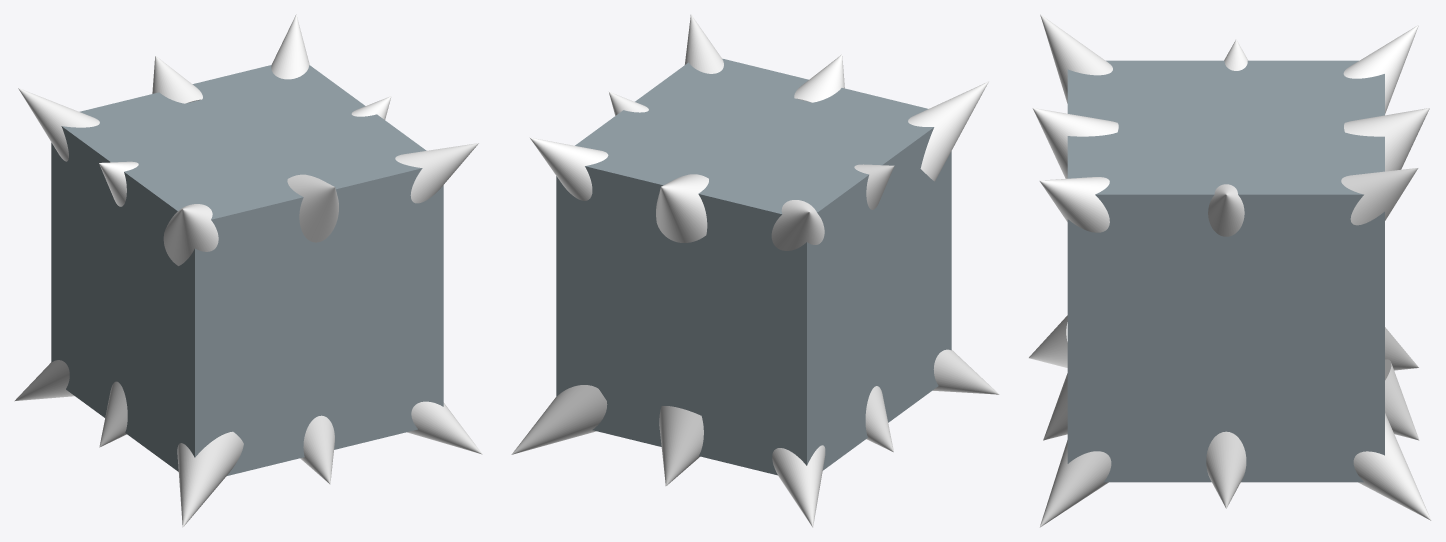
Rendered from Mysterybox.obj.
The picture shows the model from 3 angles, left to right: view 1: azimuth 30°, elevation 25°; view 2: azimuth 150°, elevation 25°; view 3: azimuth 270°, elevation 25°; orthographic projection. The views are drawn at different scales.
Visible parts, largest first — view 1: Element #1, Cone; view 2: Element #1, Cone; view 3: Element #1, Cone.
Boxes of the visible parts, <box> form: Element #1: <box>51,65,443,475</box>; Cone: <box>14,14,482,527</box>; Element #1: <box>556,58,951,475</box>; Cone: <box>511,14,999,527</box>; Element #1: <box>1067,60,1384,482</box>; Cone: <box>1029,14,1431,527</box>.
Size of the model in its own units: 19.64 by 19.6 by 20.34.
